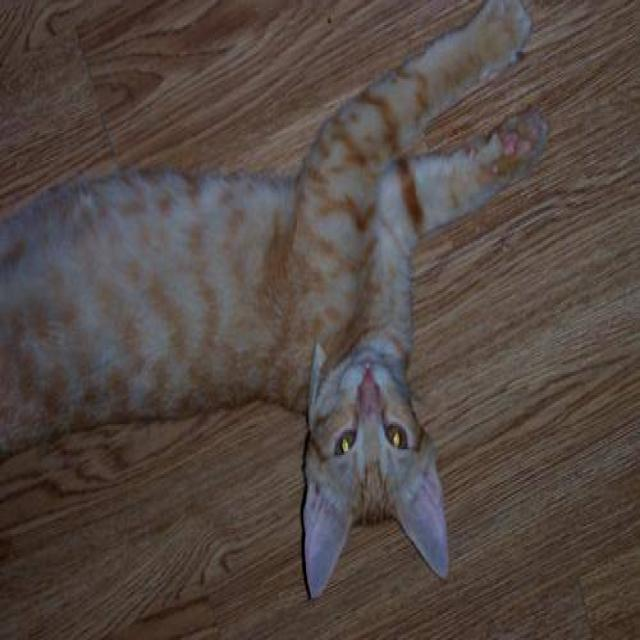Kucing: (4, 7, 581, 613)
